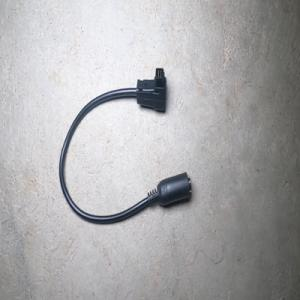Wire: (59, 67, 192, 224)
